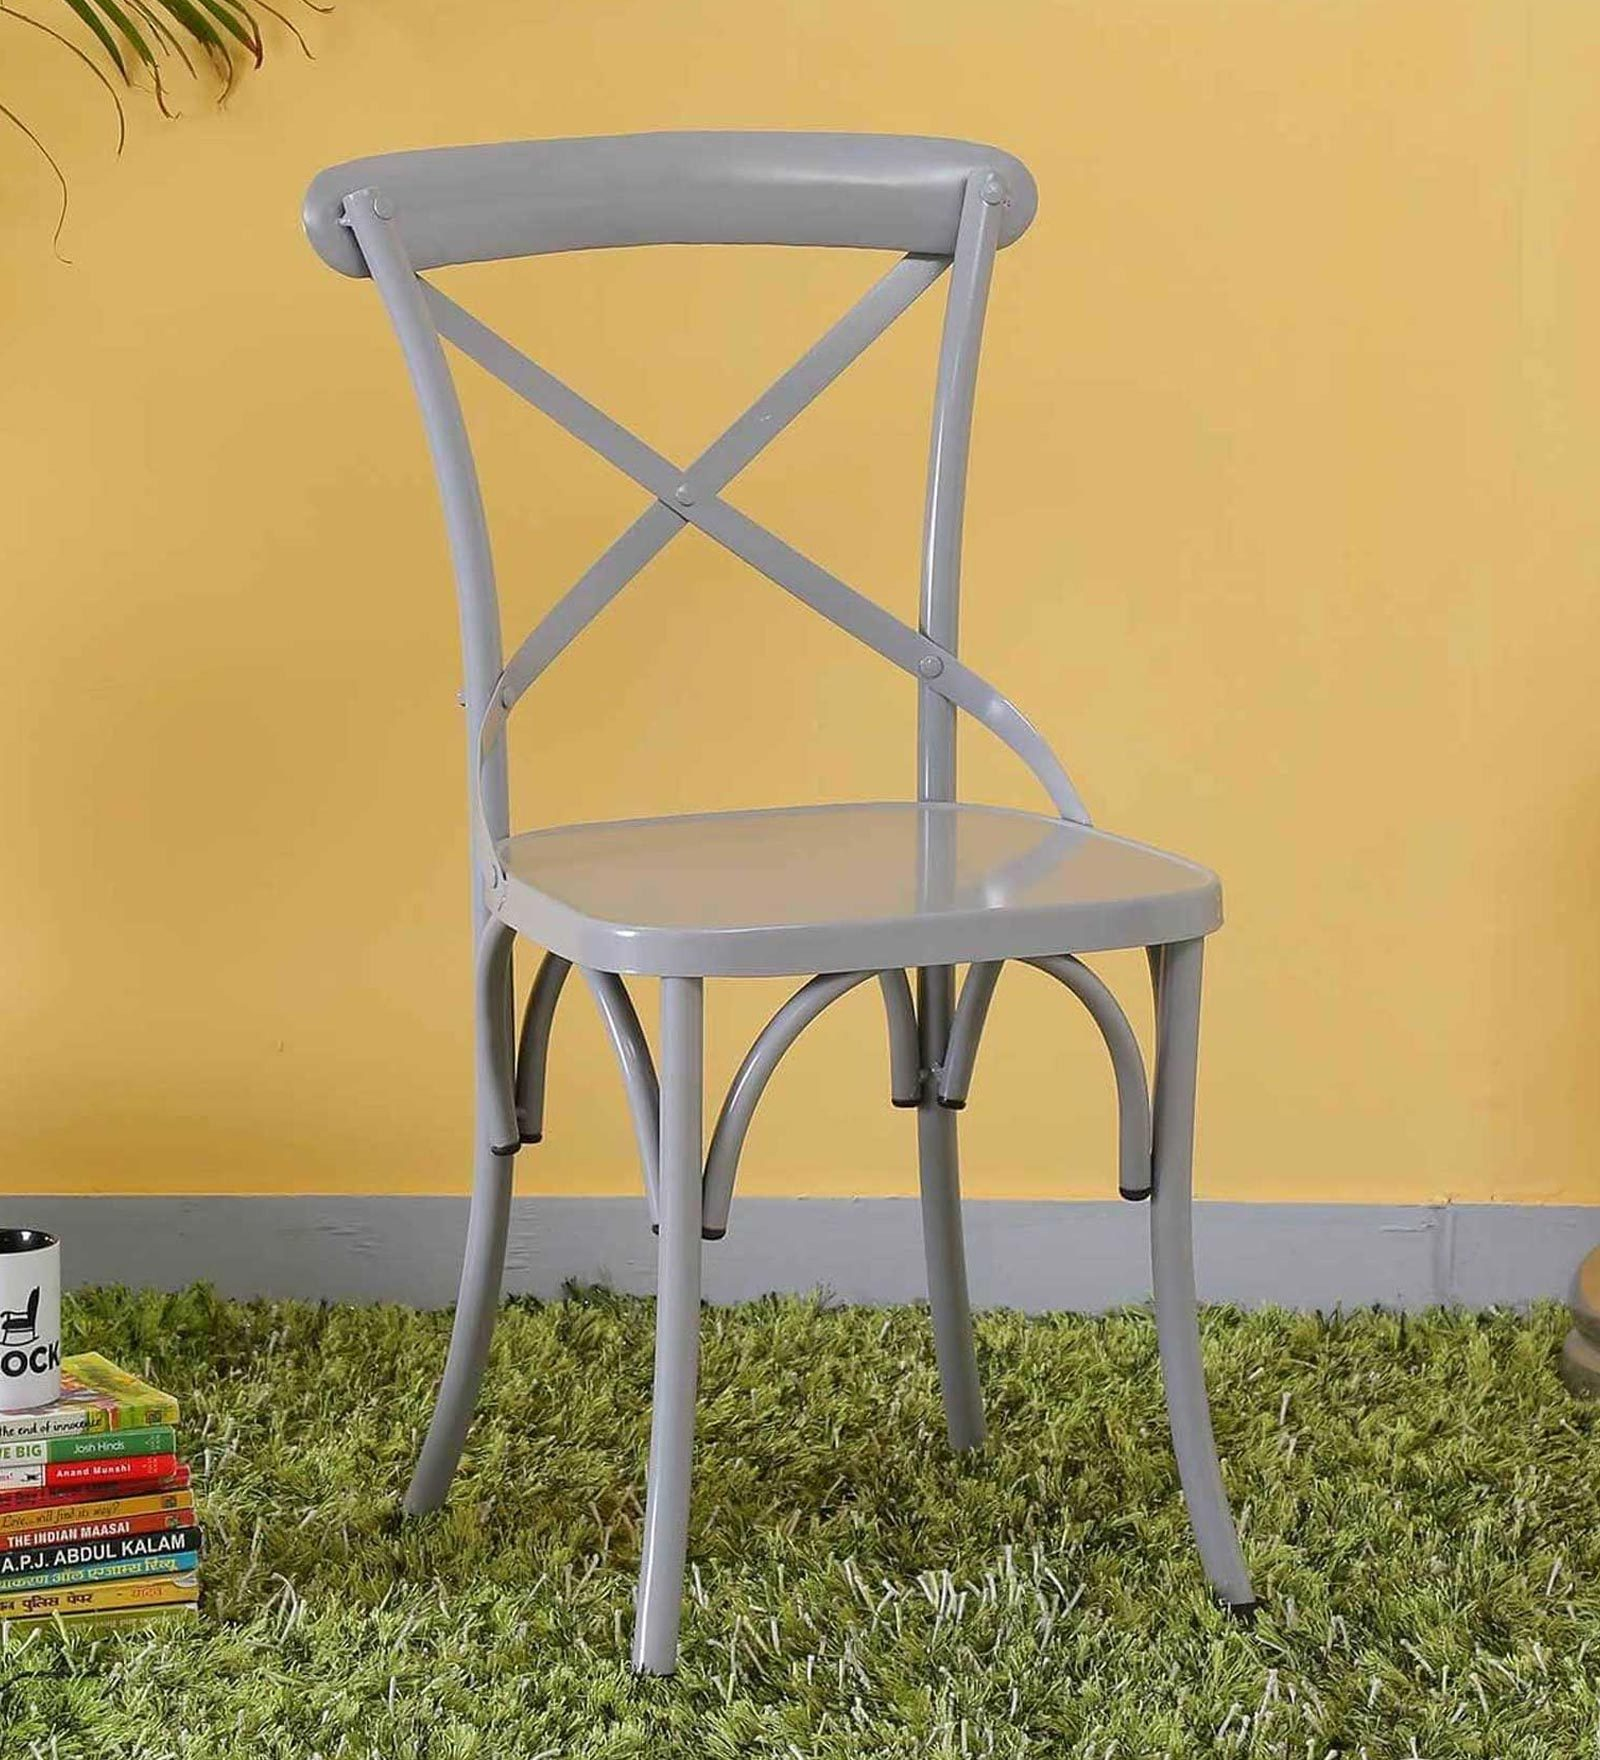Fabian Metal Chair in Steel Grey Color by Bohemiana: (277, 109, 1326, 1688)
